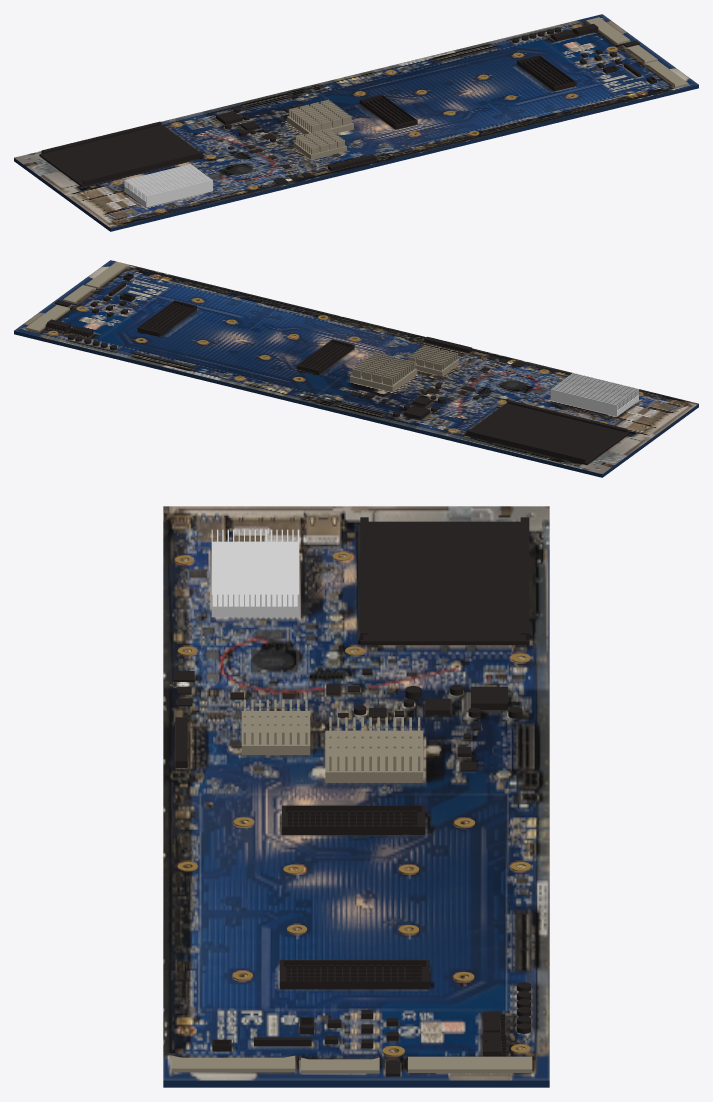
File: vista_MB.glb
The picture shows the model from 3 angles, top to bottom: view 1: azimuth 30°, elevation 25°; view 2: azimuth 150°, elevation 25°; view 3: azimuth 270°, elevation 25°; orthographic projection. The views are drawn at different scales.
Visible parts, largest first — view 1: MB2, pCube16, pCube17, pCube14, pCube15, pCube12, pCube108, pCube6, pCube9; view 2: MB2, pCube16, pCube17, pCube14, pCube12, pCube15, pCube108, pCube6, pCube9; view 3: MB2, pCube16, pCube17, pCube14, pCube12, pCube108, pCube15, pCube6, pCube9, pCube8, pCube123.
Boxes of the visible parts, <box> form: MB2: <box>14,14,698,231</box>; pCube16: <box>39,121,203,186</box>; pCube17: <box>124,164,212,207</box>; pCube14: <box>287,99,353,134</box>; pCube15: <box>293,128,346,159</box>; pCube12: <box>517,55,576,91</box>; pCube108: <box>359,94,417,129</box>; pCube6: <box>586,17,630,44</box>; pCube9: <box>644,60,688,88</box>; MB2: <box>14,260,698,477</box>; pCube16: <box>464,400,629,465</box>; pCube17: <box>550,373,638,416</box>; pCube14: <box>350,352,417,391</box>; pCube12: <box>137,300,196,336</box>; pCube15: <box>408,345,459,376</box>; pCube108: <box>296,339,354,374</box>; pCube6: <box>26,305,69,332</box>; pCube9: <box>85,261,130,289</box>; MB2: <box>163,506,549,1087</box>; pCube16: <box>360,517,529,644</box>; pCube17: <box>211,529,299,617</box>; pCube14: <box>325,717,423,782</box>; pCube12: <box>280,960,429,989</box>; pCube108: <box>282,805,424,834</box>; pCube15: <box>241,699,310,754</box>; pCube6: <box>408,1056,532,1072</box>; pCube9: <box>171,1055,295,1072</box>; pCube8: <box>301,1057,379,1073</box>; pCube123: <box>471,686,507,710</box>.
Bounding box in the file's own units: 0.345 × 0.00954 × 0.098.
5 materials, 1 textured.
